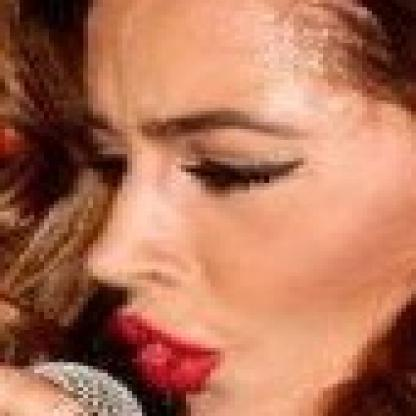female: (0, 4, 411, 412)
